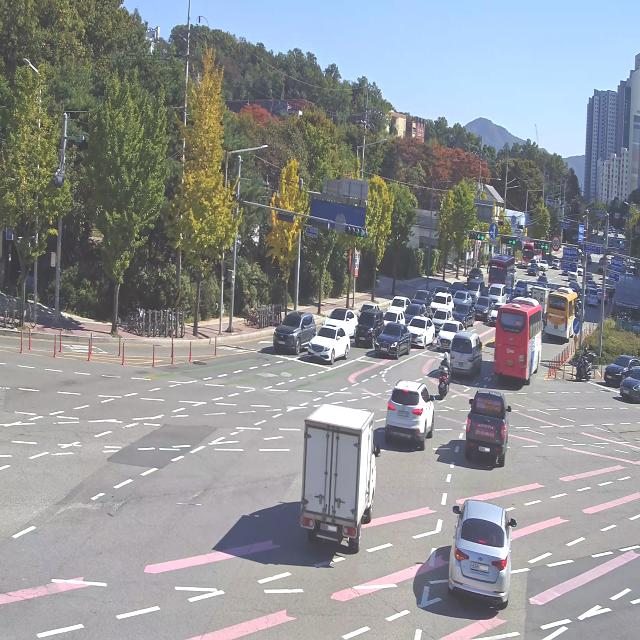Bus: (498, 295, 541, 388), (545, 280, 581, 346), (487, 251, 513, 291), (522, 241, 542, 265)
Car: (442, 481, 520, 610), (463, 383, 523, 478), (382, 374, 437, 451), (269, 305, 314, 360), (306, 321, 352, 367), (374, 320, 409, 357), (318, 301, 356, 333), (352, 308, 381, 349), (606, 351, 636, 385), (407, 315, 433, 351), (435, 320, 461, 352), (452, 301, 475, 328)
Motorcycle: (434, 349, 452, 403), (576, 340, 593, 380)
Truck: (288, 394, 386, 563)
